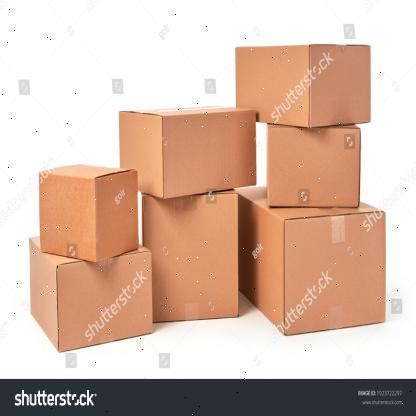box: (284, 212, 386, 336), (143, 194, 239, 322), (58, 252, 153, 355), (162, 109, 256, 197), (267, 126, 361, 210), (309, 42, 371, 128), (40, 170, 95, 264)
